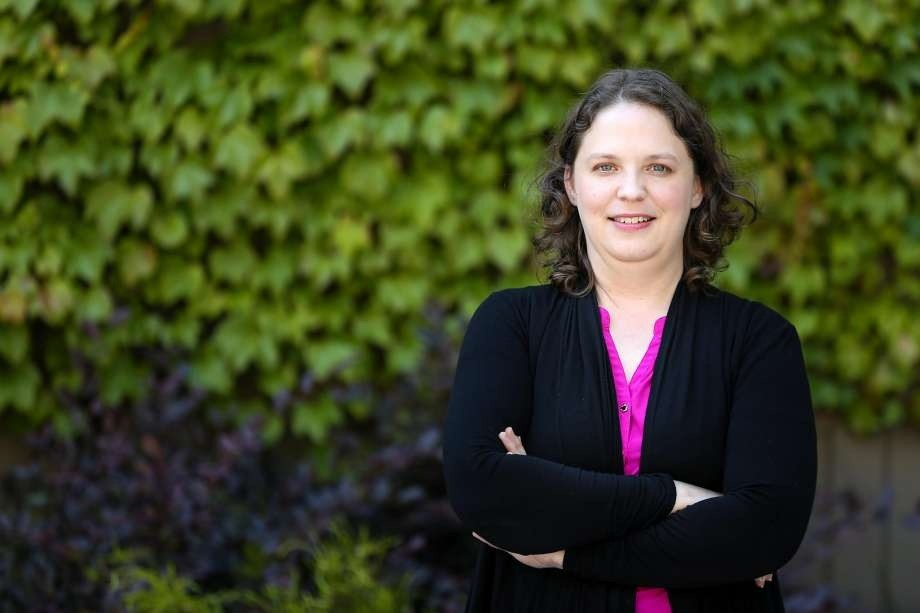face_no_mask: (540, 66, 724, 274)
